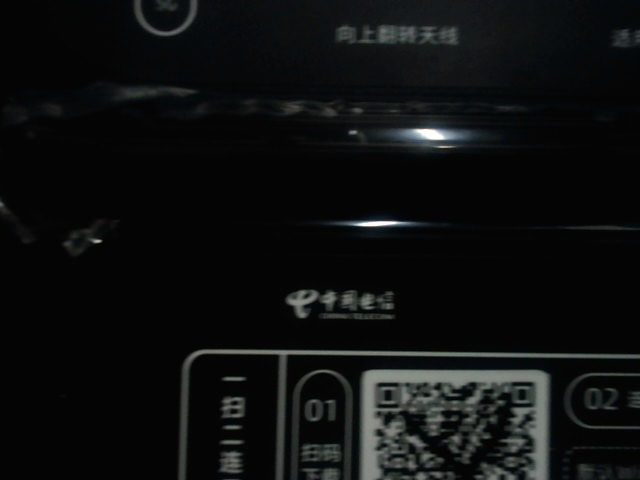AB_ChinaTelecom: (276, 276, 411, 325)
